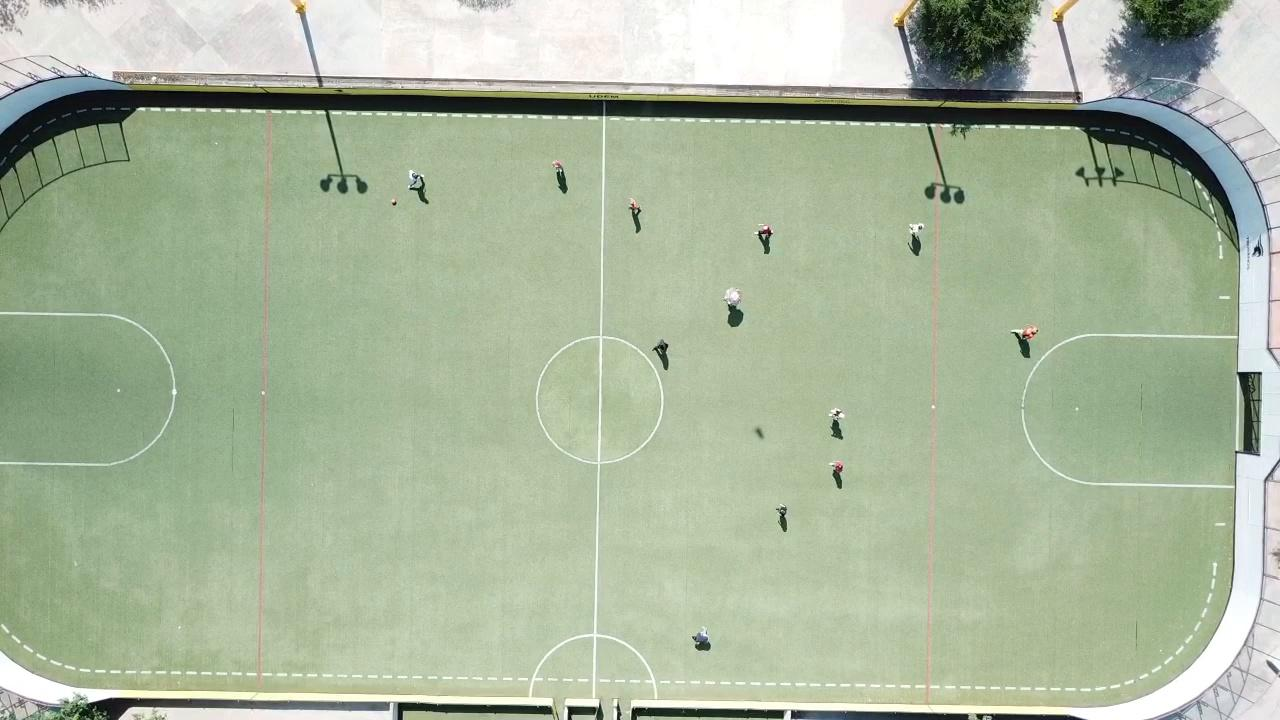ball: (391, 199, 396, 205)
player: (1012, 325, 1039, 341), (725, 288, 742, 308), (693, 627, 710, 647), (408, 170, 424, 191), (653, 339, 668, 359), (829, 407, 846, 423), (756, 223, 772, 239), (628, 198, 641, 214), (908, 223, 924, 236), (830, 461, 843, 473), (775, 505, 787, 518), (554, 160, 564, 171)
